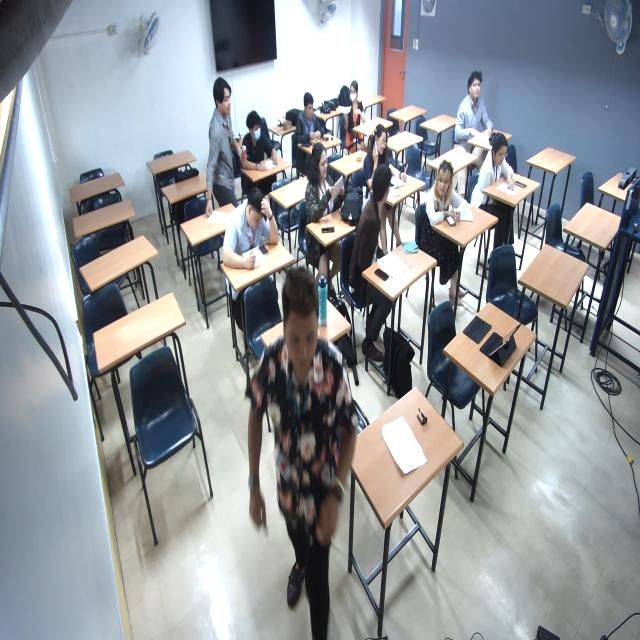read: (360, 124, 422, 196), (477, 137, 523, 208)
